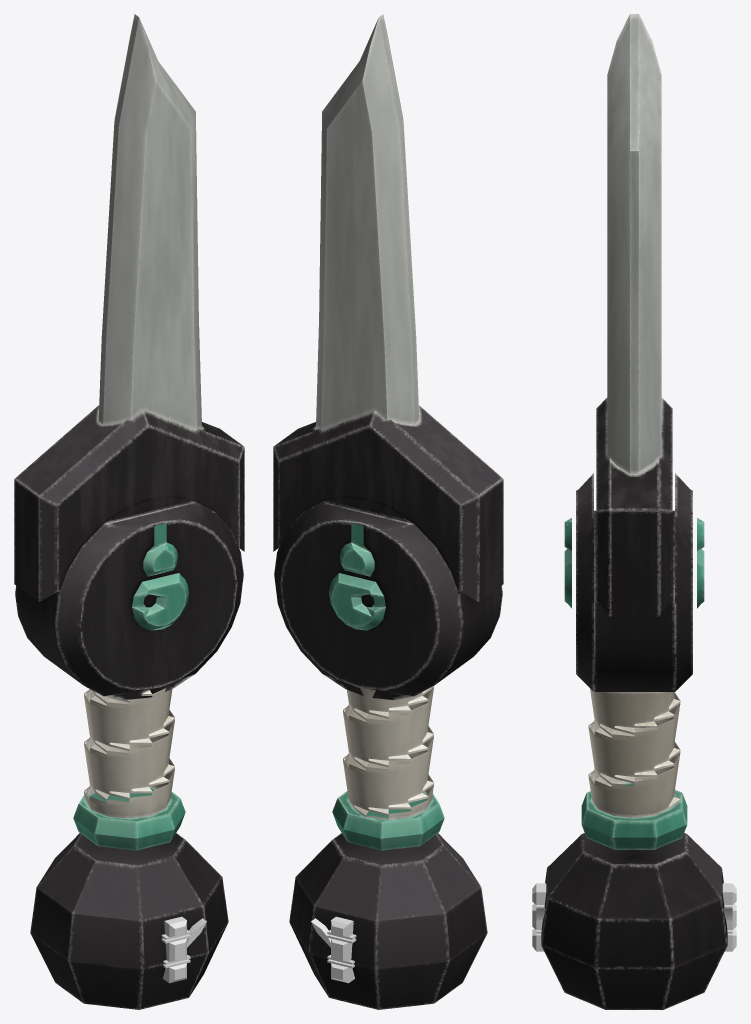
The model's file is Cork Tooth.fbx.
The picture shows the model from 3 angles, left to right: view 1: azimuth 30°, elevation 25°; view 2: azimuth 150°, elevation 25°; view 3: azimuth 270°, elevation 25°; orthographic projection.
Parts seen in each view (by area): view 1: Cork Tooth_Body, Cork Tooth_Glow; view 2: Cork Tooth_Body, Cork Tooth_Glow; view 3: Cork Tooth_Body, Cork Tooth_Glow.
Part boxes in pixels (box(x1,y1,x2,y2)): Cork Tooth_Body: box(14, 14, 244, 1009); Cork Tooth_Glow: box(161, 916, 206, 983); Cork Tooth_Body: box(273, 14, 503, 1009); Cork Tooth_Glow: box(311, 916, 356, 983); Cork Tooth_Body: box(541, 14, 727, 1009); Cork Tooth_Glow: box(532, 883, 736, 951).
Bounding box in the file's own units: 0.5318 × 2.43 × 0.4539.
